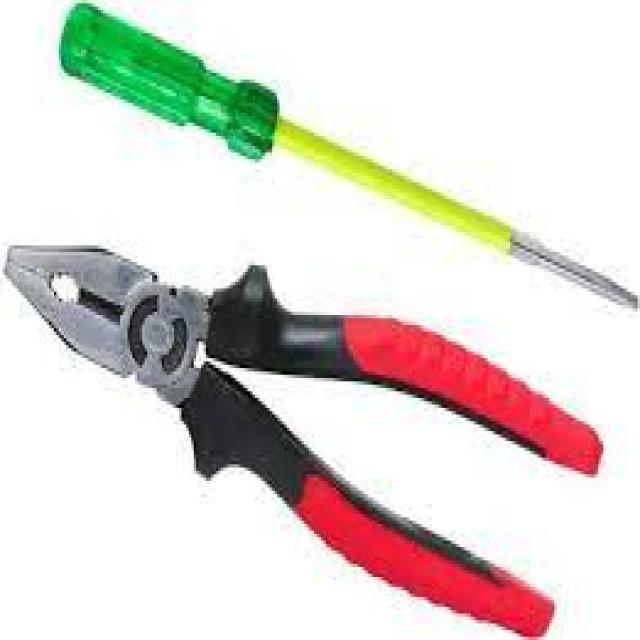Screwdriver: (60, 3, 638, 307)
